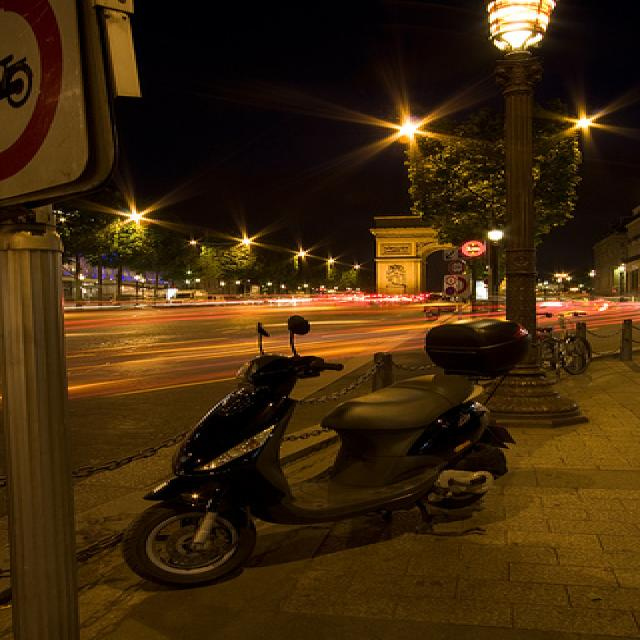Motorbike: (70, 309, 596, 589)
